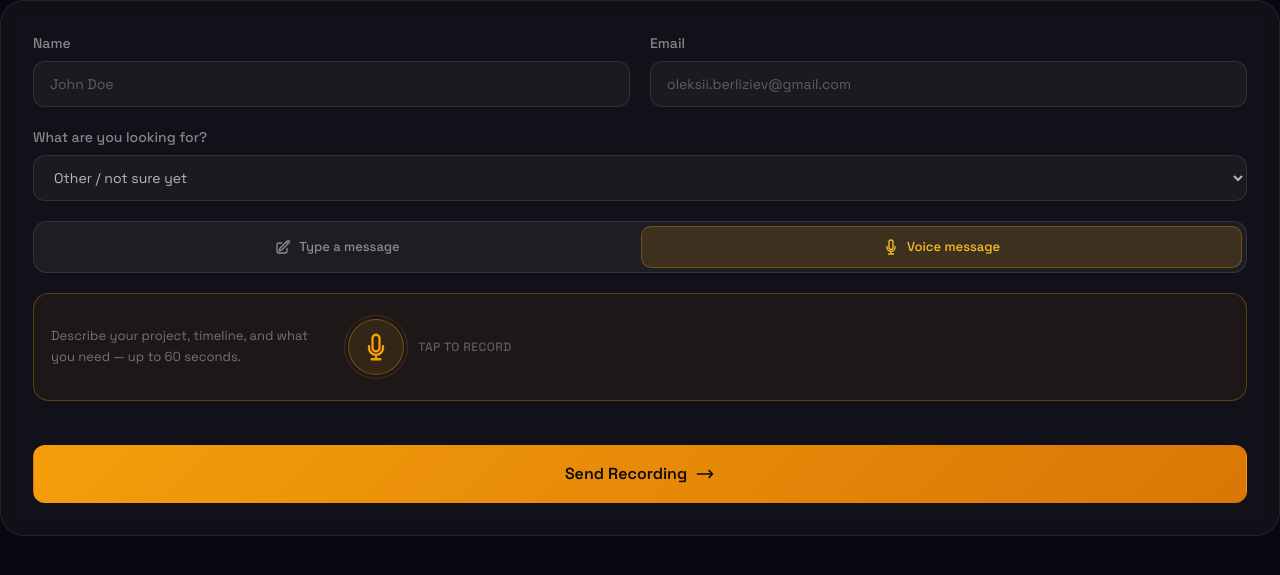
ContactForm › case 3: blur empty name → nameTooShort error
Click the field labelled "Name" at (332, 84), box [33,61,630,107]
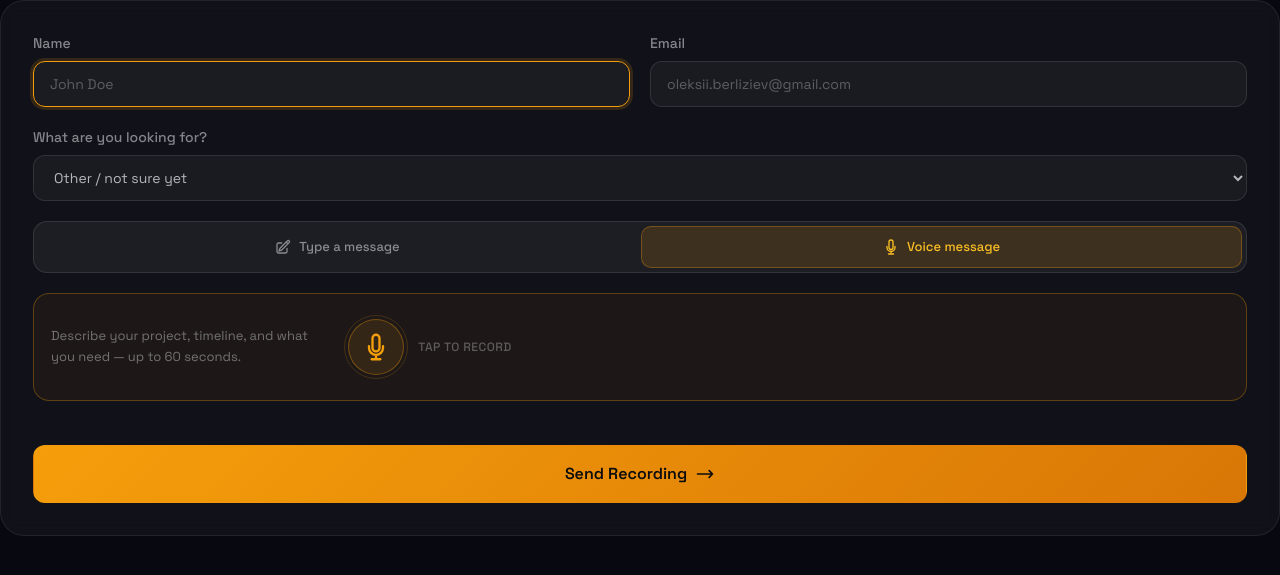
Press Tab
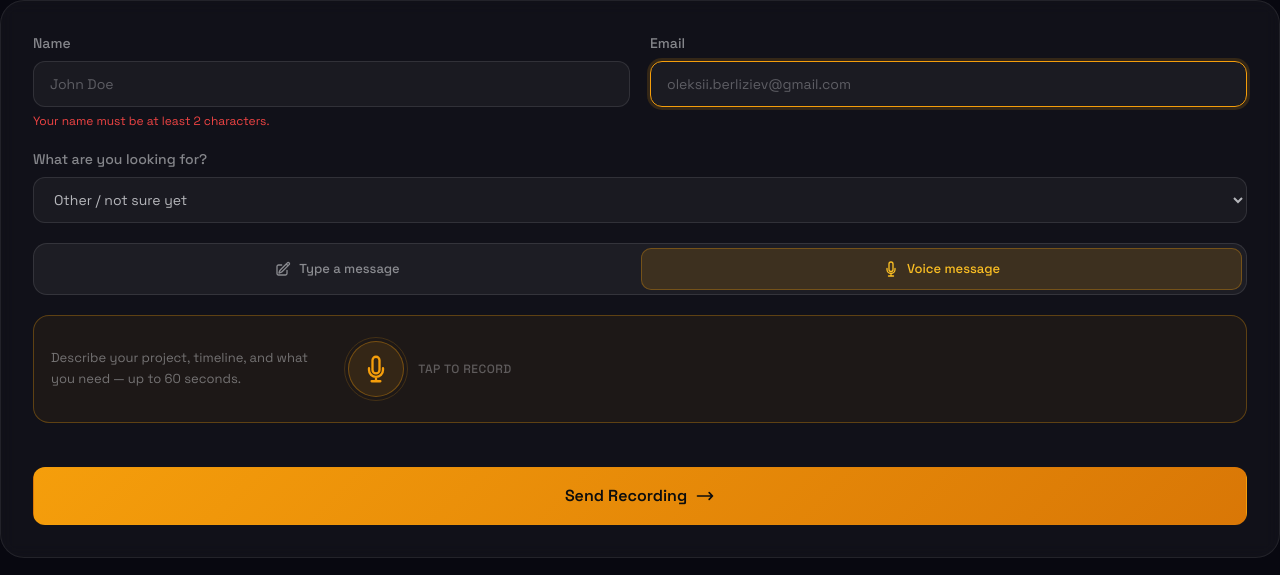
Expected: the text "Your name must be at least 2 characters." is shown, [33,113,269,129]
